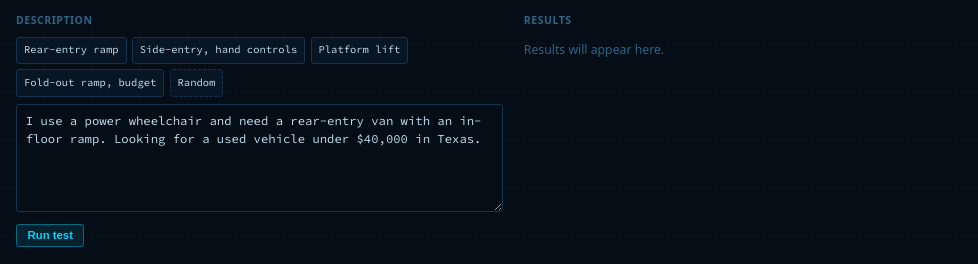
Test case: IntakeTestPanel › should explain unrecognisable JSON when rawText exists but no filters were extracted
Click the button "Run test".
click(50, 235)  # box top-left (16, 224), bottom-right (84, 247)
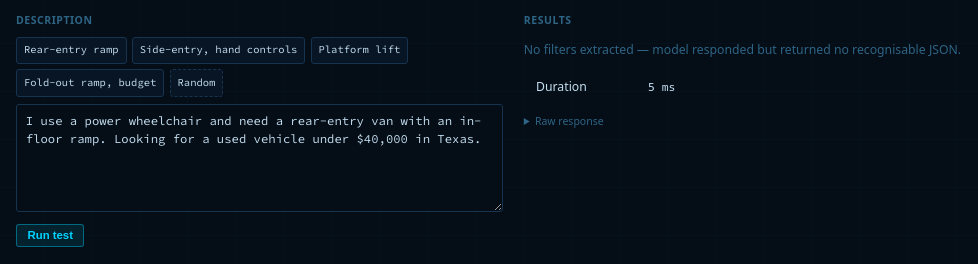
Expected: the text "No filters extracted — model responded but returned no recognisable JSON." is shown, top-left (524, 40), bottom-right (961, 58)
